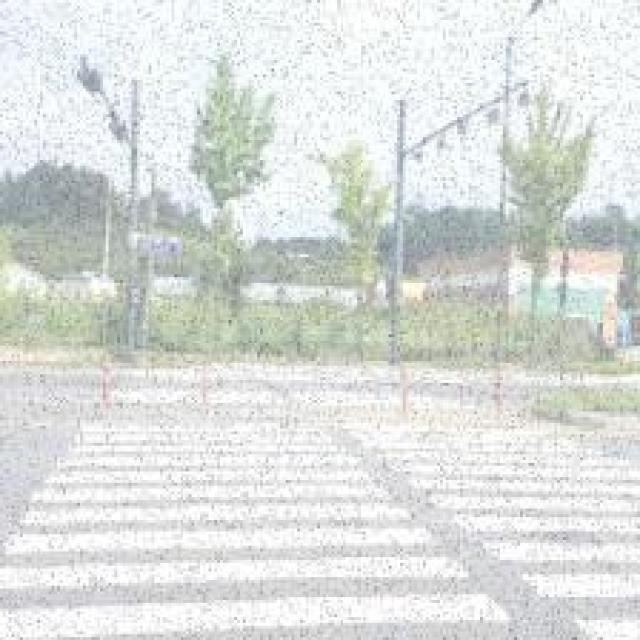crosswalk: (8, 363, 632, 630)
